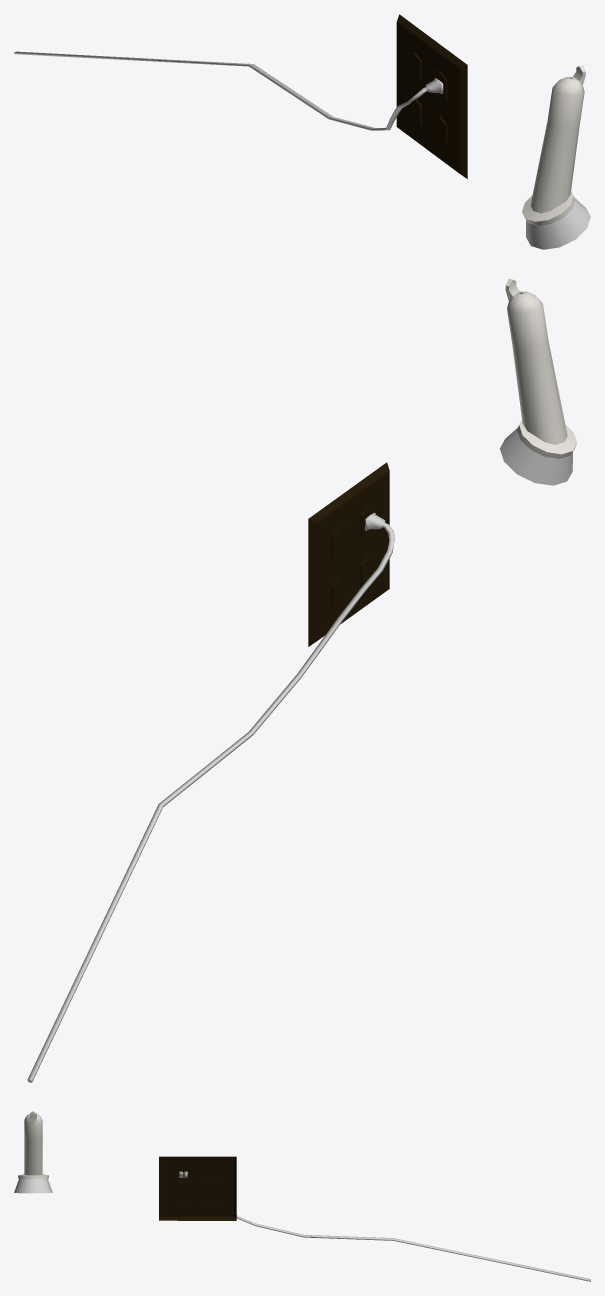
Rendered from Kitchen Outlet and Scrubber.fbx.
3 views of the same model, one above another, from view 1: azimuth 30°, elevation 25°; view 2: azimuth 150°, elevation 25°; view 3: azimuth 270°, elevation 25° (orthographic). The views are drawn at different scales.
Visible parts, largest first — view 1: Wall_Switches_By_Door_002, Circle_012; view 2: Wall_Switches_By_Door_002, Circle_012; view 3: Wall_Switches_By_Door_002, Circle_012.
Part boxes in pixels (x1=…): Wall_Switches_By_Door_002: x1=14, y1=14, x2=467, y2=178; Circle_012: x1=522, y1=65, x2=590, y2=249; Wall_Switches_By_Door_002: x1=27, y1=462, x2=395, y2=1082; Circle_012: x1=500, y1=278, x2=576, y2=485; Wall_Switches_By_Door_002: x1=159, y1=1156, x2=590, y2=1281; Circle_012: x1=14, y1=1111, x2=52, y2=1193.
Size of the model in its own units: 0.289 by 1.23 by 3.42.
